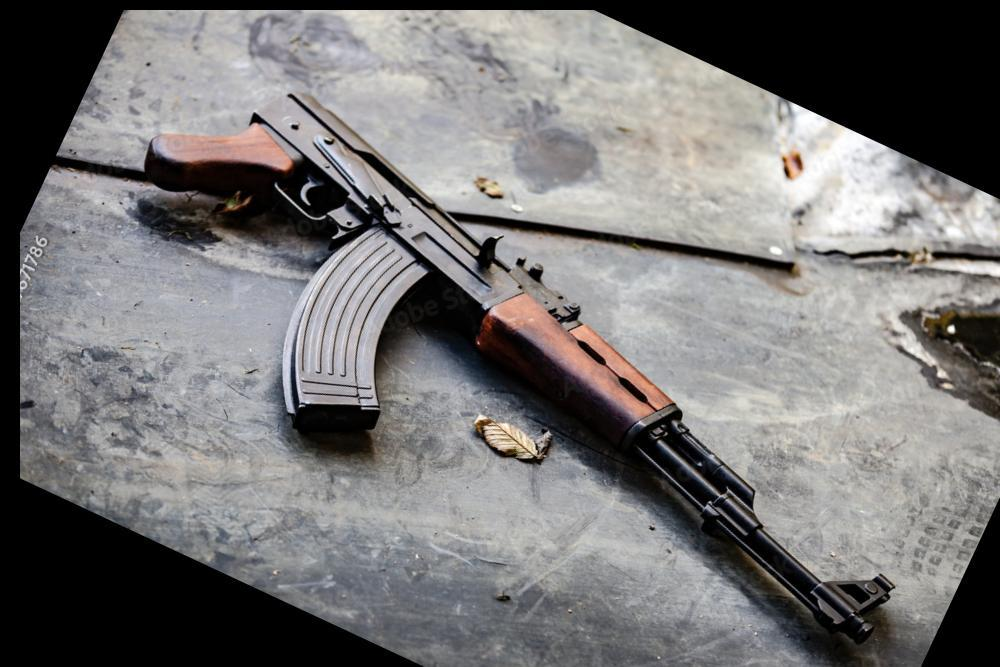larga: (145, 92, 898, 643)
